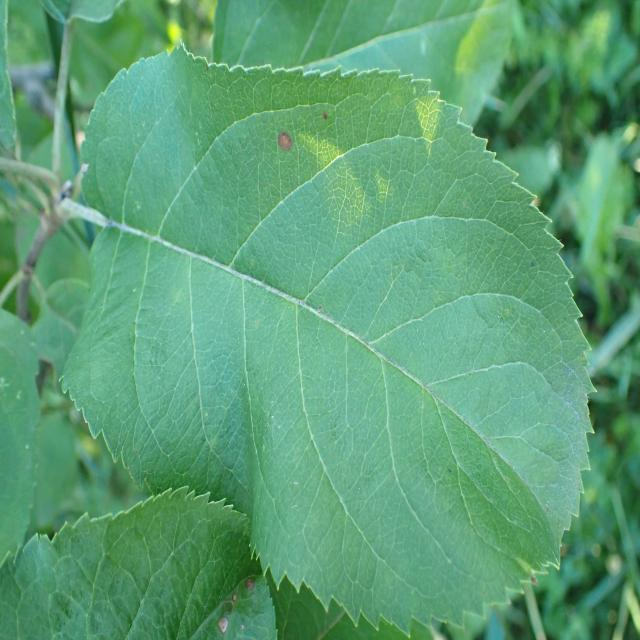frog-eye-leaf-spot: (55, 40, 597, 634), (0, 484, 279, 640)
